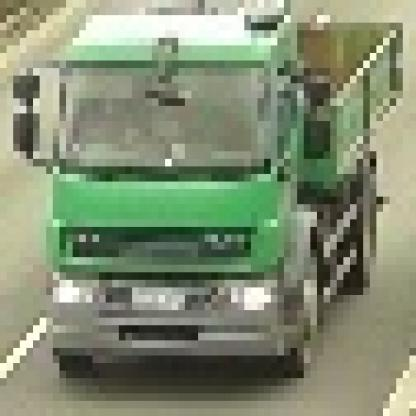truck: (8, 1, 397, 379)
